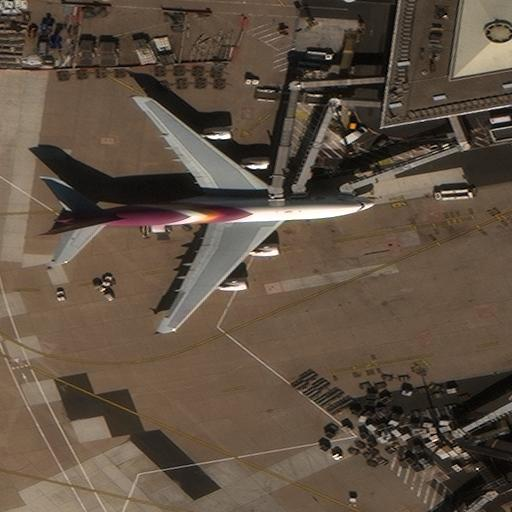Large Civil Transport: (43, 95, 374, 330)
